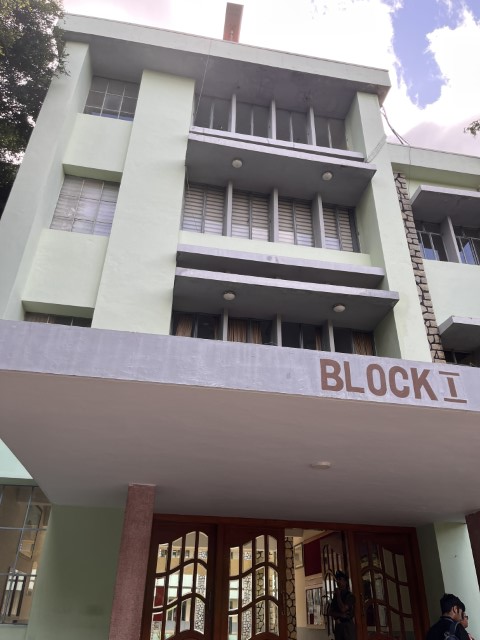Block 1: (3, 3, 480, 640)
